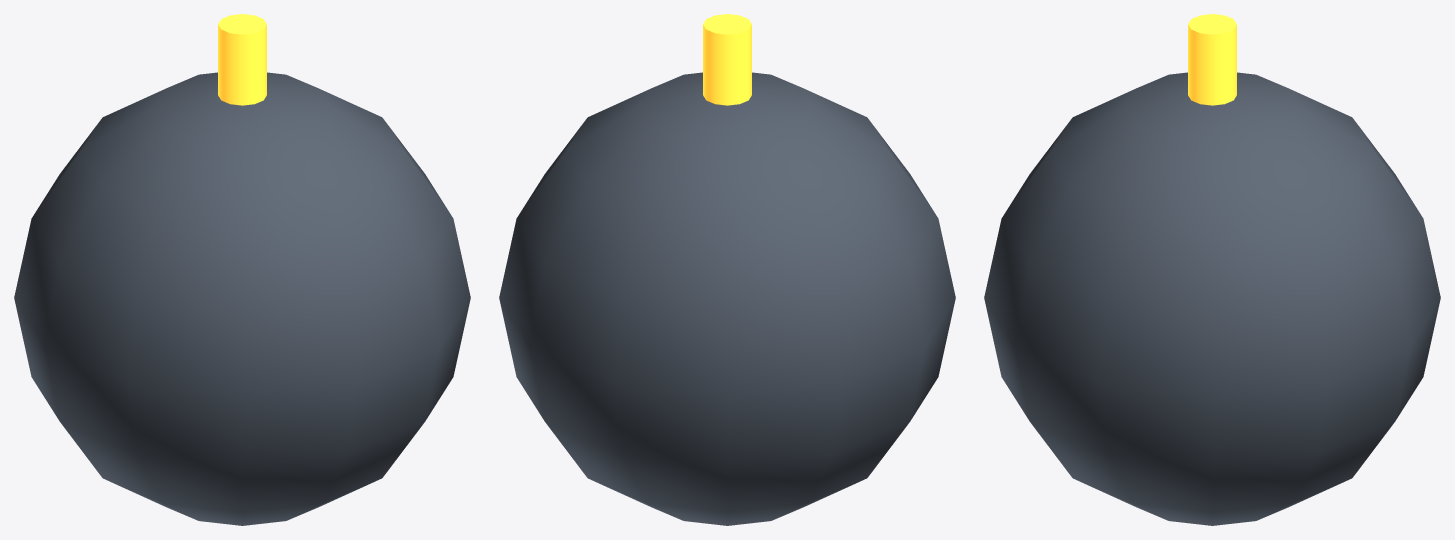
Rendered from bomb.glb.
3 renders of one model, left to right at view 1: azimuth 30°, elevation 25°; view 2: azimuth 150°, elevation 25°; view 3: azimuth 270°, elevation 25°, orthographic.
Visible parts, largest first — view 1: body, fuse; view 2: body, fuse; view 3: body, fuse.
Part boxes in pixels (bbox=[...]): body: bbox=[14, 72, 470, 525]; fuse: bbox=[218, 14, 266, 105]; body: bbox=[499, 72, 955, 525]; fuse: bbox=[703, 14, 751, 105]; body: bbox=[984, 72, 1440, 525]; fuse: bbox=[1188, 14, 1236, 105].
Size of the model in its own units: 0.28 by 0.325 by 0.28.
